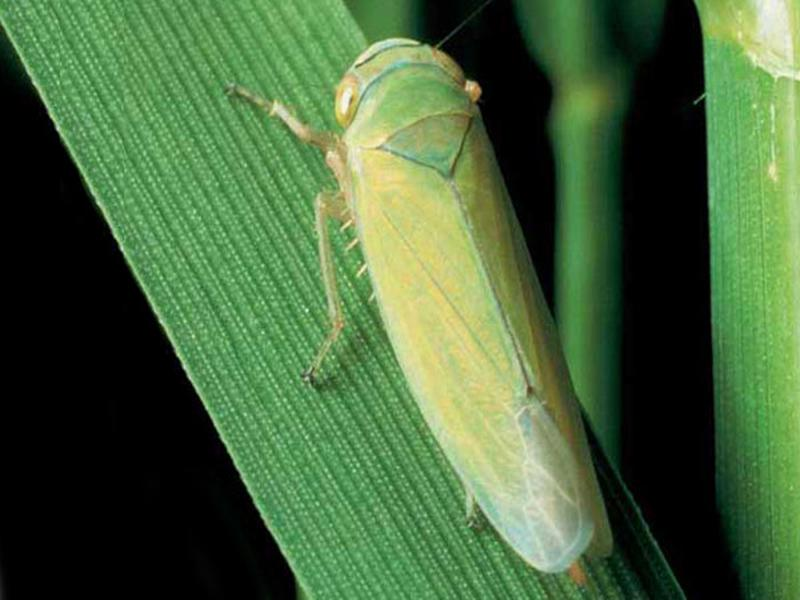Brown_plant_leafhopper: (250, 35, 622, 571)
